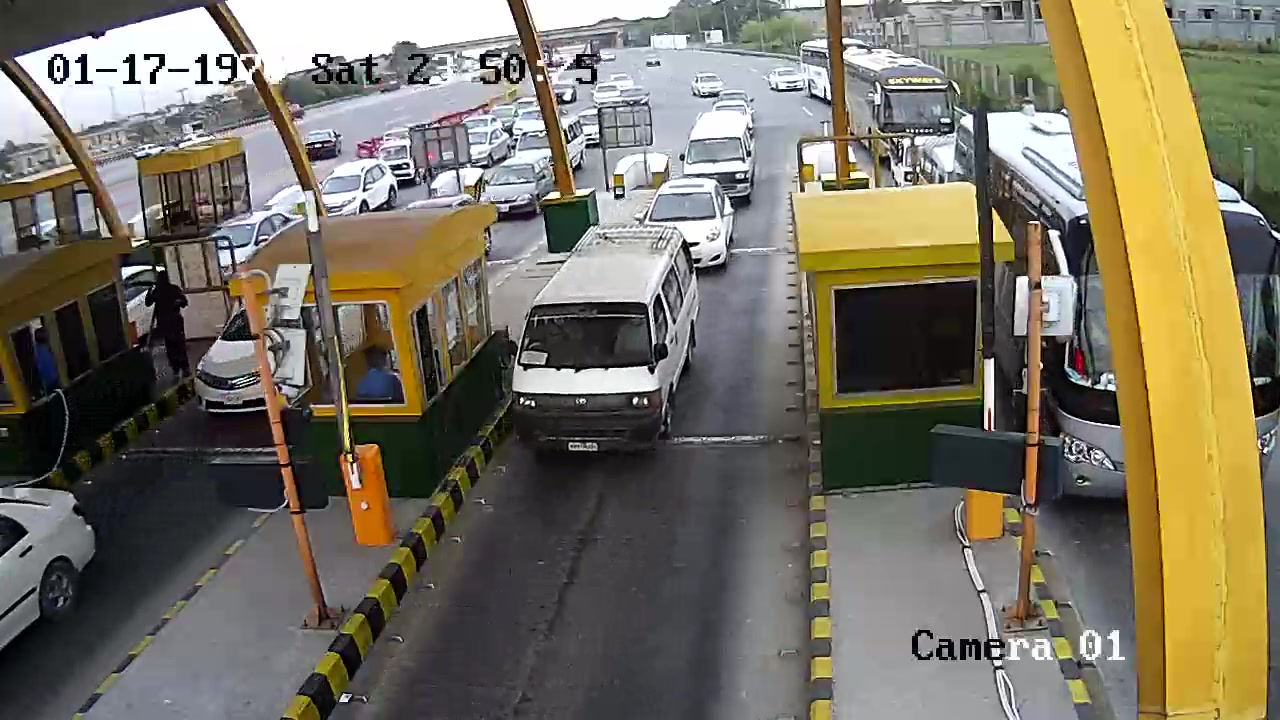F2: (510, 212, 706, 473)
